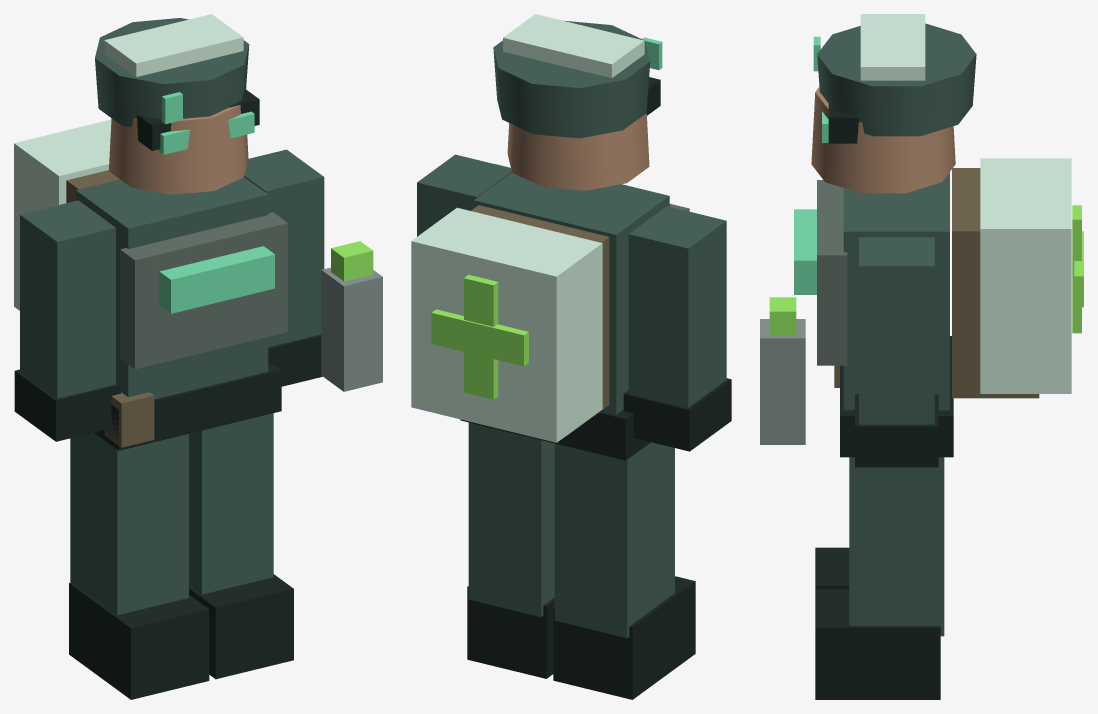
Rendered from medic_l01.glb.
The picture shows the model from 3 angles, left to right: view 1: azimuth 30°, elevation 25°; view 2: azimuth 150°, elevation 25°; view 3: azimuth 270°, elevation 25°; orthographic projection.
Parts seen in each view (by area): view 1: trouser (×2), sleeve (×2), boot (×2), vest, body, helmet, face, aid_injector, medical_pack, glove (×2), belt, protective_hood (+7 smaller); view 2: trouser (×2), medical_pack, sleeve (×2), boot (×2), helmet, body, face, protective_hood, glove, aid_cross_horizontal, aid_cross_vertical, belt (+1 smaller); view 3: medical_pack, trouser, sleeve, boot (×2), helmet, body, face, field_pack, vest, aid_injector, protective_hood, glove (+6 smaller).
Boxes of the visible parts, x1=… form: trouser (×2): x1=70, y1=413, x2=273, y2=615; sleeve (×2): x1=20, y1=149, x2=324, y2=398; boot (×2): x1=69, y1=574, x2=293, y2=699; vest: x1=120, y1=212, x2=287, y2=369; body: x1=75, y1=177, x2=268, y2=399; helmet: x1=95, y1=18, x2=249, y2=127; face: x1=109, y1=105, x2=248, y2=194; aid_injector: x1=321, y1=267, x2=382, y2=391; medical_pack: x1=14, y1=119, x2=111, y2=310; glove (×2): x1=14, y1=334, x2=322, y2=441; belt: x1=94, y1=365, x2=281, y2=450; protective_hood: x1=104, y1=14, x2=243, y2=76; trouser (×2): x1=468, y1=422, x2=674, y2=638; medical_pack: x1=411, y1=207, x2=602, y2=442; sleeve (×2): x1=417, y1=154, x2=726, y2=407; boot (×2): x1=467, y1=576, x2=695, y2=699; helmet: x1=493, y1=20, x2=650, y2=138; body: x1=474, y1=173, x2=669, y2=414; face: x1=507, y1=113, x2=649, y2=190; protective_hood: x1=503, y1=14, x2=644, y2=77; glove: x1=623, y1=378, x2=731, y2=451; aid_cross_horizontal: x1=431, y1=309, x2=528, y2=366; aid_cross_vertical: x1=464, y1=274, x2=498, y2=399; belt: x1=460, y1=410, x2=650, y2=460; medical_pack: x1=980, y1=158, x2=1071, y2=393; trouser: x1=849, y1=457, x2=944, y2=636; sleeve: x1=859, y1=237, x2=934, y2=424; boot (×2): x1=815, y1=547, x2=940, y2=699; helmet: x1=817, y1=23, x2=976, y2=136; body: x1=843, y1=172, x2=949, y2=410; face: x1=811, y1=87, x2=955, y2=193; field_pack: x1=952, y1=168, x2=1039, y2=398; vest: x1=817, y1=180, x2=847, y2=365; aid_injector: x1=760, y1=319, x2=805, y2=444; protective_hood: x1=860, y1=14, x2=925, y2=80; glove: x1=855, y1=394, x2=938, y2=467.
Bounding box in the file's own units: 0.86 × 1.8 × 0.8525.
